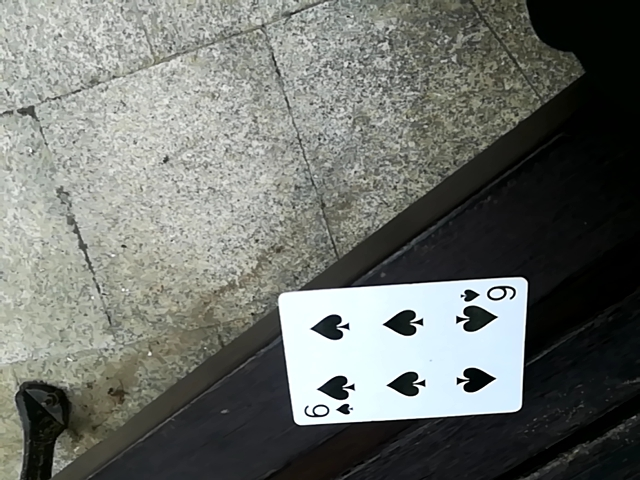ht 6: (273, 280, 535, 429)
